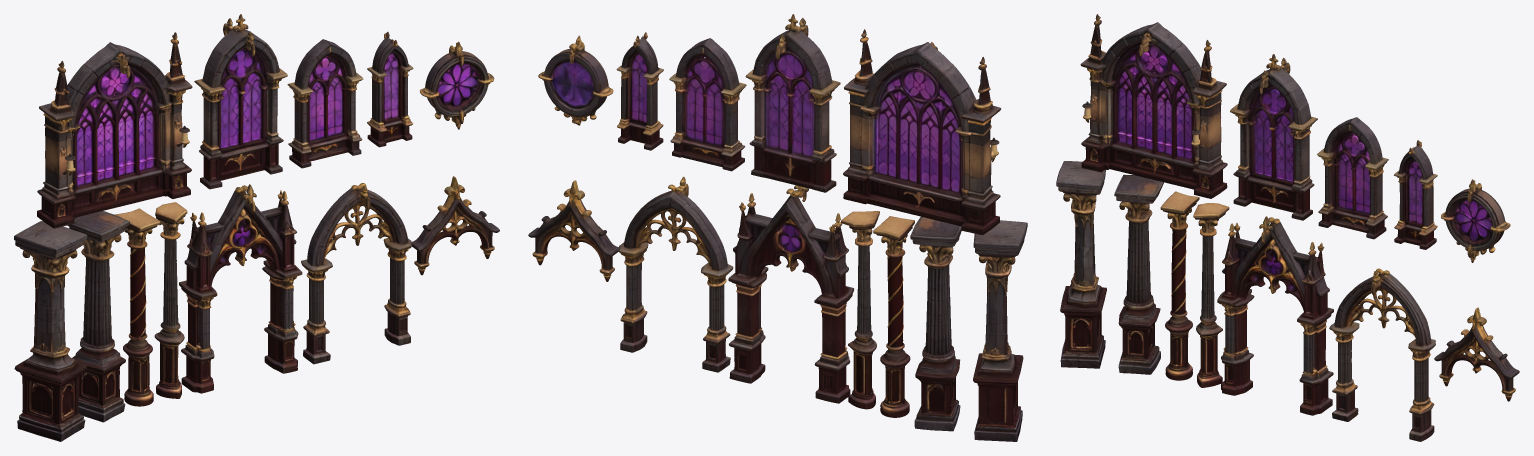
Rendered from interior-windows-columns-arches.glb.
3 renders of one model, left to right at view 1: azimuth 30°, elevation 25°; view 2: azimuth 150°, elevation 25°; view 3: azimuth 330°, elevation 25°, orthographic. The views are drawn at different scales.
Visible parts, largest first — view 1: model.001; view 2: model.001; view 3: model.001.
Boxes of the visible parts, <box> form: model.001: <box>14,14,499,441</box>; model.001: <box>528,14,1027,441</box>; model.001: <box>1056,14,1519,441</box>.
Bounding box in the file's own units: 1.9 × 1.38 × 0.2671.
Materials: 1 (1 with a texture image).
